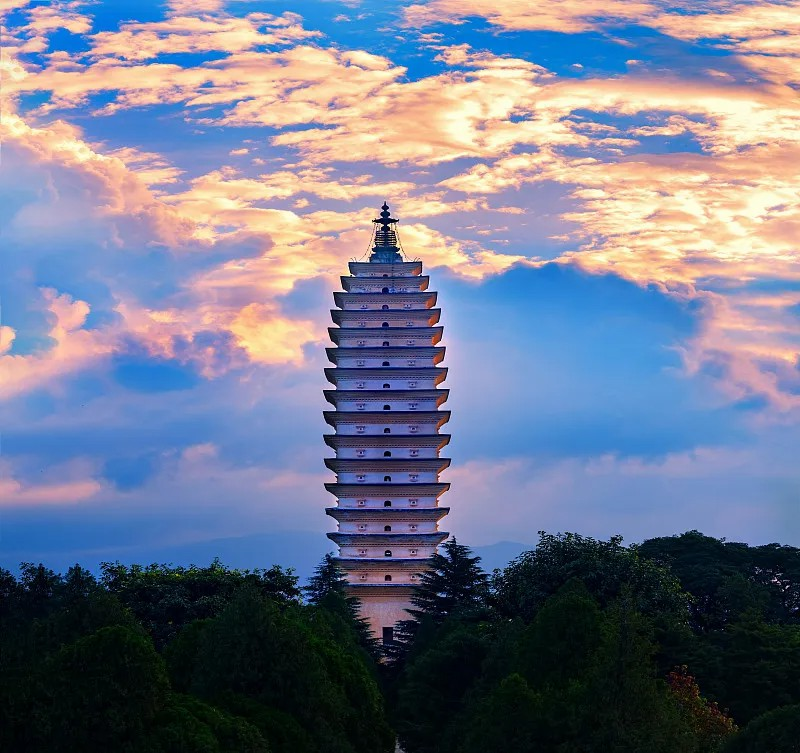ThreePagoda: (323, 201, 451, 641)
